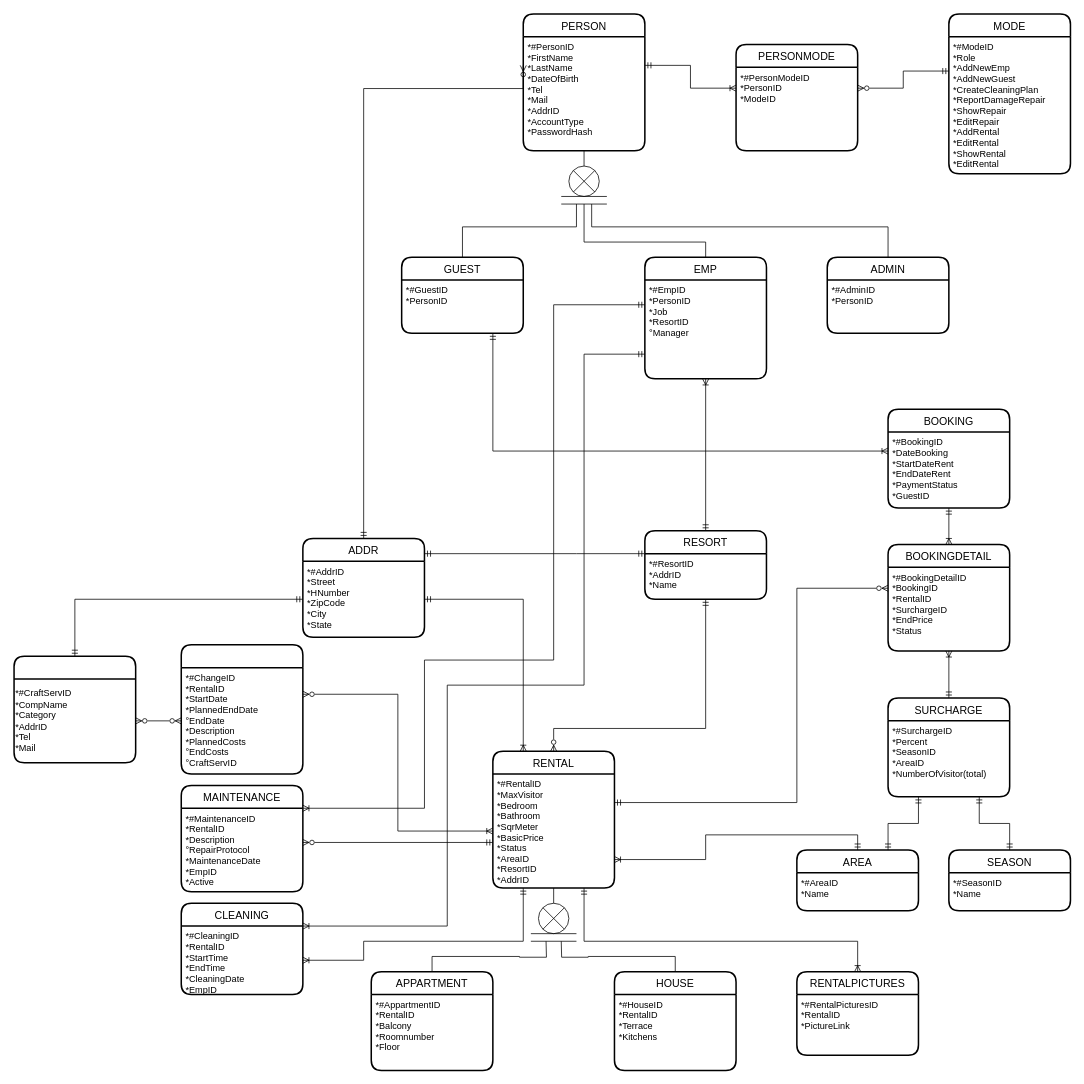
Some shapes in this 1084 by 1084 pixel diagram are drawn without their labels. Here are the shapes that lost their labels. From the top down, the box of each, then its label:
(13, 655, 136, 763): CRAFTSERVICE
(180, 644, 303, 774): STRUCCHANGE
